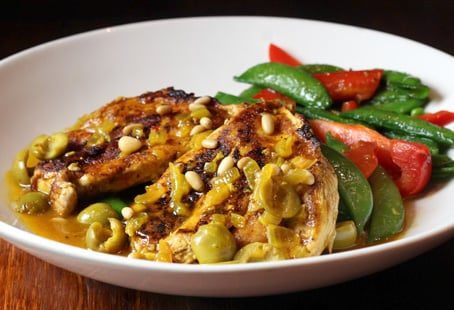sushi: (0, 66, 434, 299)
